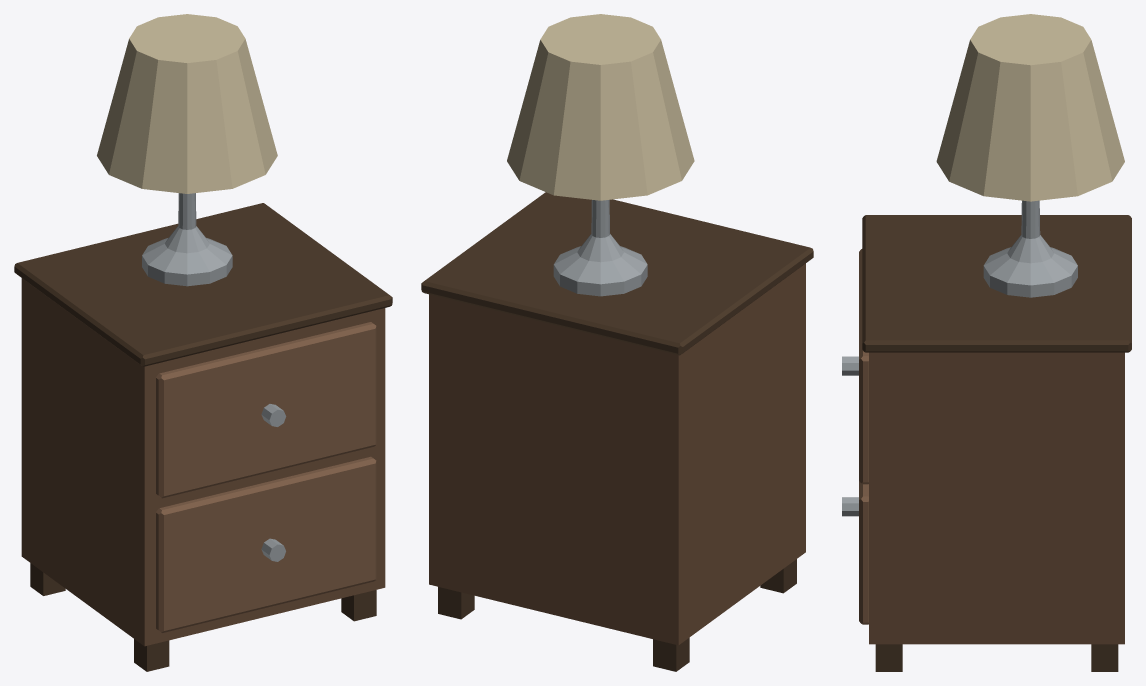
File: chevet.glb
The picture shows the model from 3 angles, left to right: view 1: azimuth 30°, elevation 25°; view 2: azimuth 150°, elevation 25°; view 3: azimuth 270°, elevation 25°; orthographic projection. The views are drawn at different scales.
Parts seen in each view (by area): view 1: drawers, body, top, lamp_shade, lamp_foot, feet, knobs; view 2: body, top, lamp_shade, lamp_foot, feet; view 3: body, top, lamp_shade, lamp_foot, drawers, feet, knobs.
Part boxes in pixels (left/top/right/bottom): drawers: left=156, top=322, right=376, bottom=632; body: left=21, top=278, right=385, bottom=646; top: left=14, top=203, right=392, bottom=366; lamp_shade: left=97, top=14, right=277, bottom=193; lamp_foot: left=142, top=193, right=232, bottom=286; feet: left=30, top=563, right=376, bottom=671; knobs: left=261, top=404, right=286, bottom=561; body: left=429, top=263, right=805, bottom=645; top: left=421, top=192, right=813, bottom=355; lamp_shade: left=507, top=14, right=694, bottom=200; lamp_foot: left=553, top=200, right=647, bottom=296; feet: left=438, top=559, right=796, bottom=671; body: left=869, top=352, right=1124, bottom=644; top: left=862, top=215, right=1131, bottom=352; lamp_shade: left=936, top=14, right=1124, bottom=201; lamp_foot: left=983, top=200, right=1077, bottom=297; drawers: left=859, top=249, right=868, bottom=624; feet: left=875, top=644, right=1118, bottom=671; knobs: left=842, top=356, right=858, bottom=516.
Bounding box in the file's own units: 0.45 × 0.94 × 0.43.
5 materials, 5 textured.
